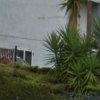Palm tree: (51, 0, 100, 93)
